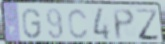4: (92, 7, 113, 42)
9: (45, 7, 64, 40)
C: (67, 8, 90, 41)
G: (22, 7, 43, 40)
P: (111, 7, 136, 41)
Z: (134, 8, 161, 42)
